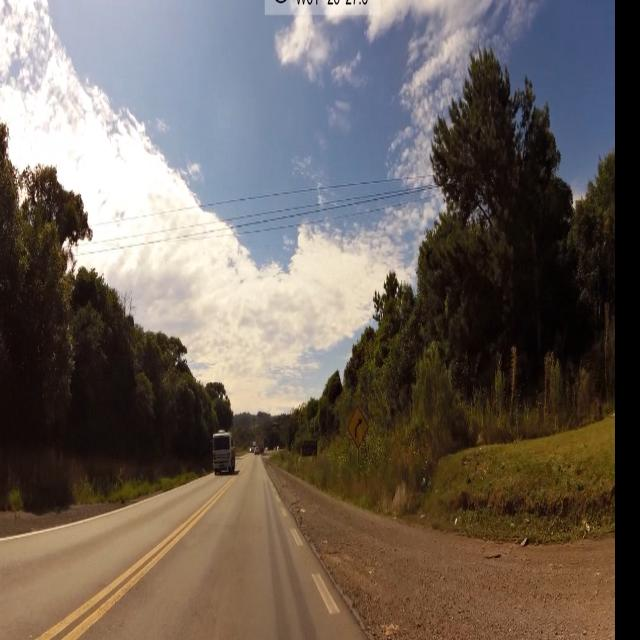A-2b: (348, 404, 368, 450)
